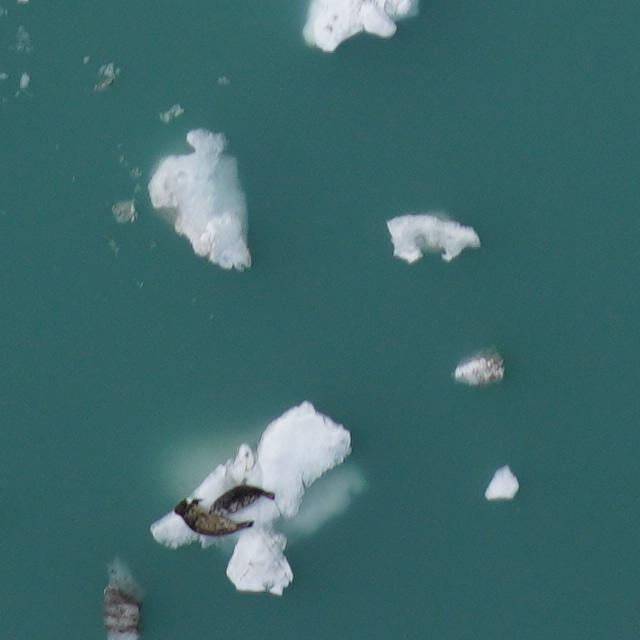seal: (168, 487, 254, 553), (209, 473, 276, 520)
